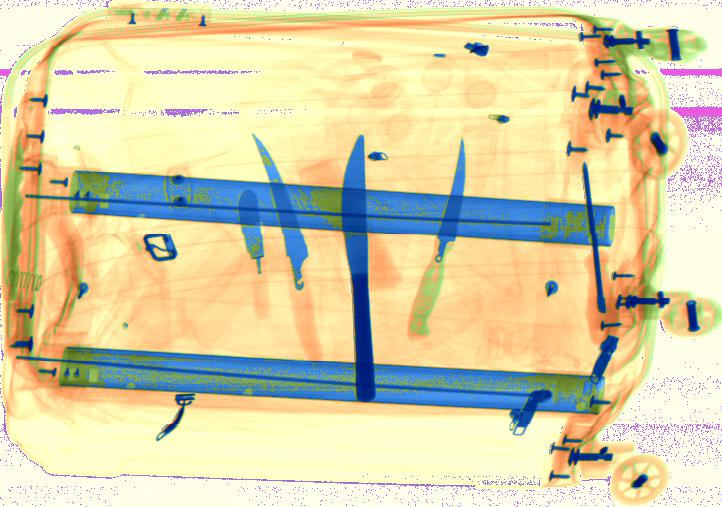Knife: (251, 132, 323, 359), (406, 138, 468, 342), (340, 133, 376, 402), (235, 190, 270, 320)
